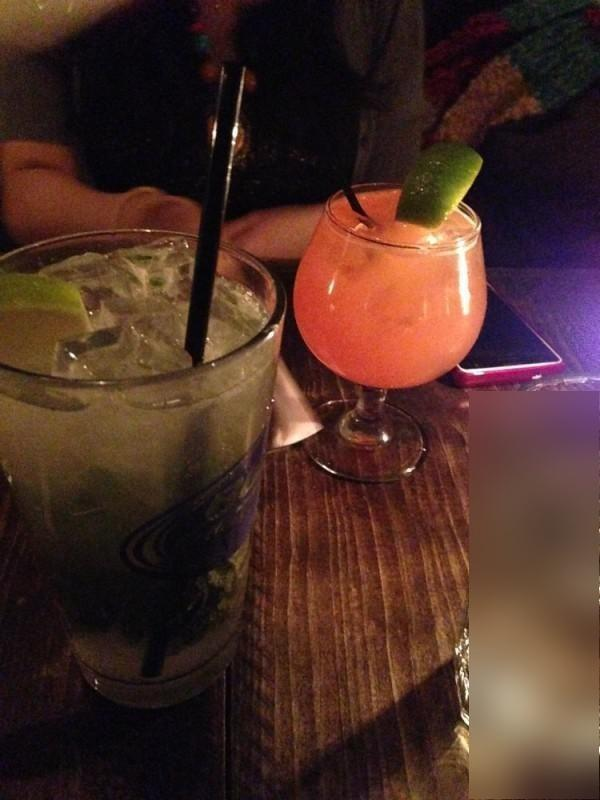glass-normal: (1, 226, 289, 710)
glass-wine: (293, 181, 488, 480)
